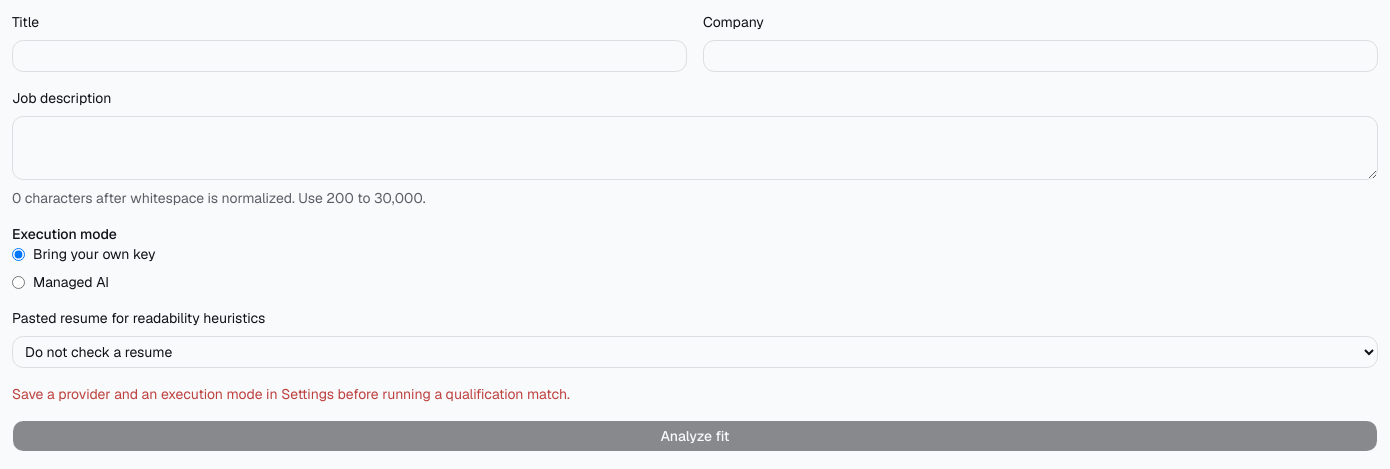
Scenario: analyze form › keeps the job description editable with no saved settings and disables only Analyze
This screenshot has width=1390, height=469.
Click the text box labelled "Job description". click: click(695, 148)
box: [12,116,1378,180]
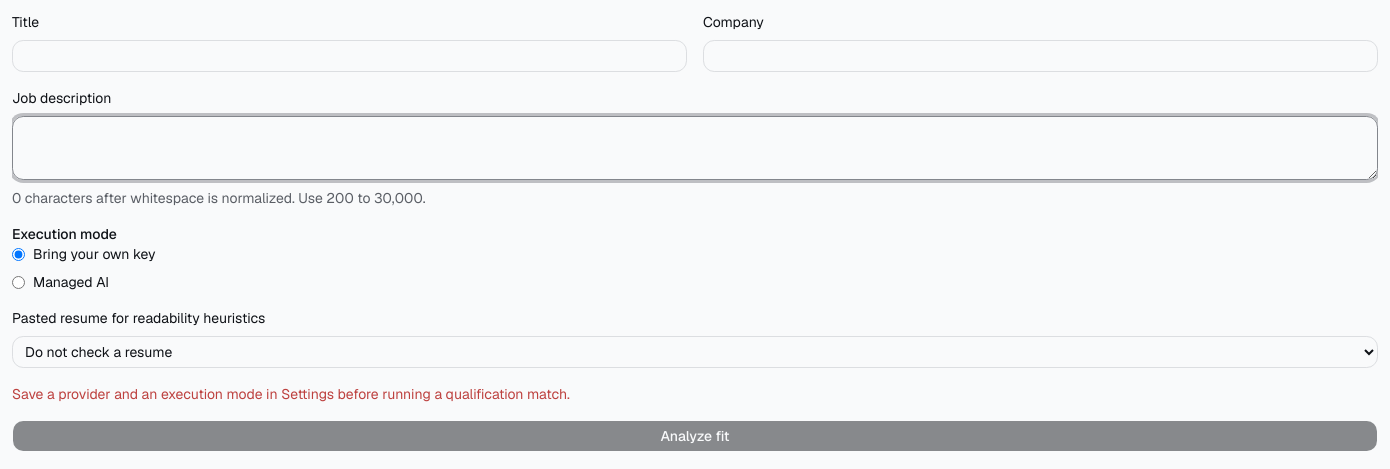
Type keys "Required: TypeScript"
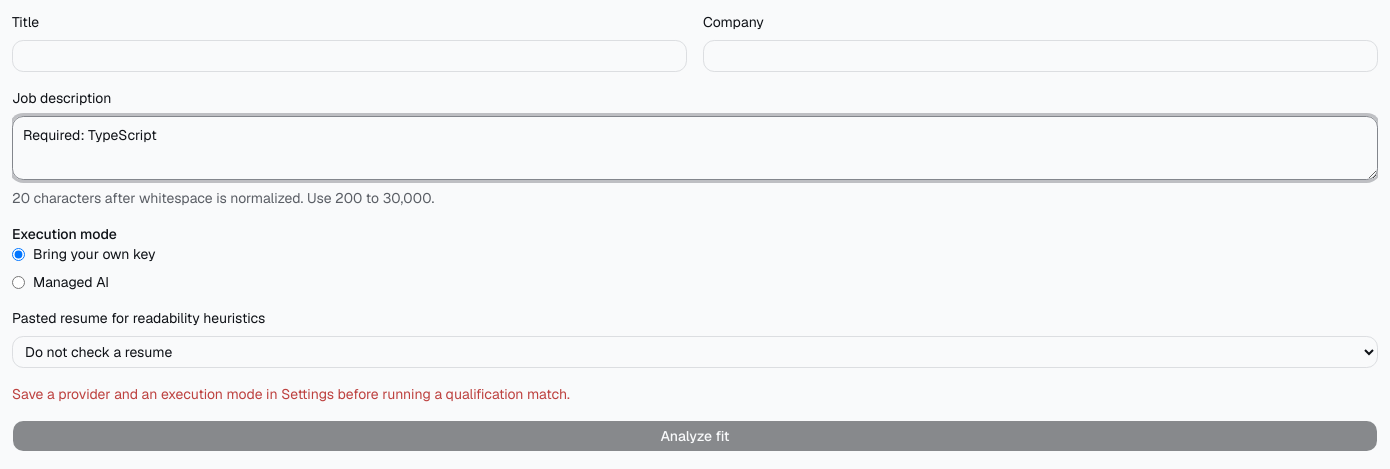
expect the message shows "Save a provider and an execution mode in Settings before running a qualification match.": met, box [12,385,570,403]
expect the text box labelled "Job description" holds "Required: TypeScript": met, box [12,116,1378,180]
